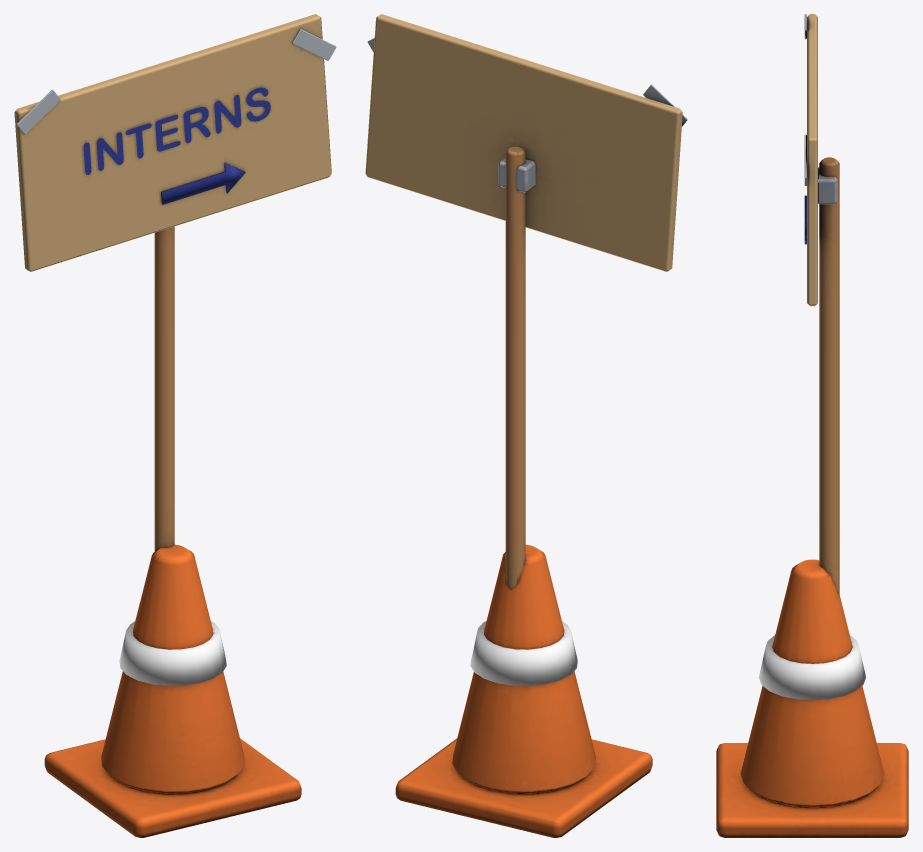
The model's file is intern_sign.glb.
3 views of the same model, side by side, from view 1: azimuth 30°, elevation 25°; view 2: azimuth 150°, elevation 25°; view 3: azimuth 270°, elevation 25° (orthographic).
Parts seen in each view (by area): view 1: intern_sign; view 2: intern_sign; view 3: intern_sign.
Part boxes in pixels (<box>): intern_sign: <box>14,14,336,837</box>; intern_sign: <box>365,14,687,837</box>; intern_sign: <box>716,14,908,837</box>.
Bounding box in the file's own units: 0.6492 × 1.43 × 0.34.
6 materials, 6 textured.
